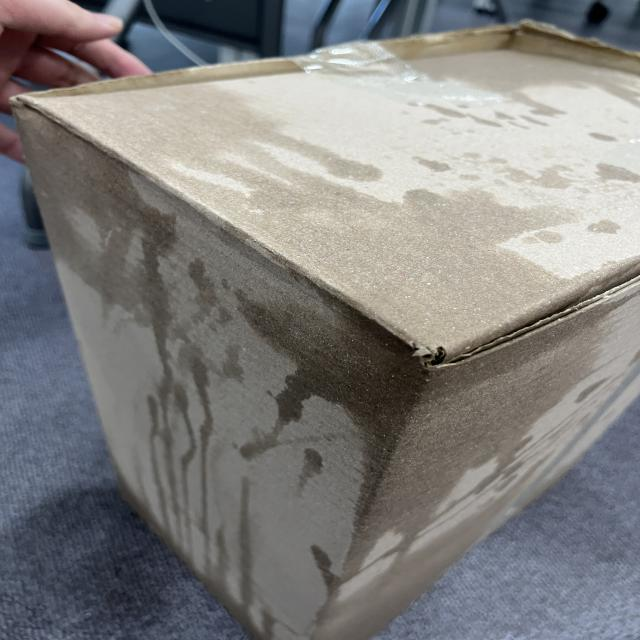wet: (300, 243, 523, 551), (5, 95, 184, 333), (404, 18, 629, 111)
